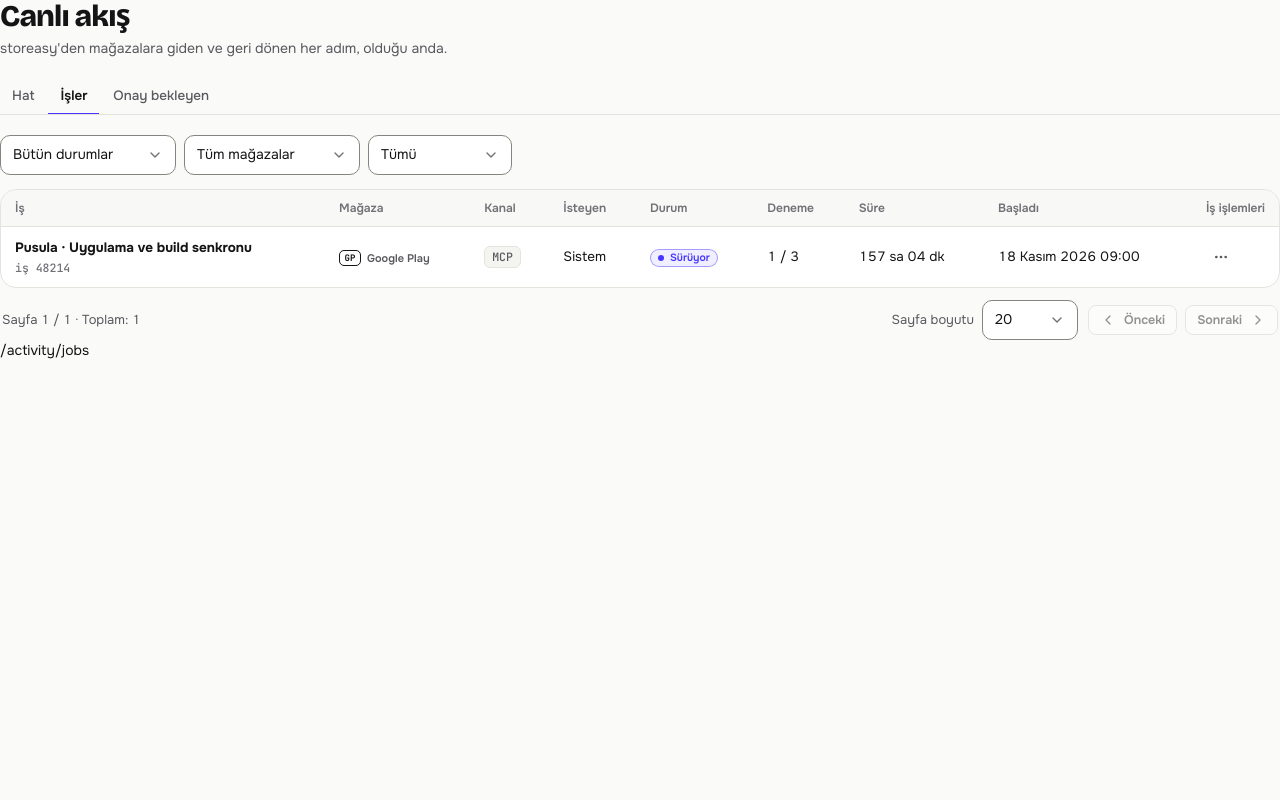
Test case: JobsPage › says a running job stops at its next step
Click the button named "İş işlemleri" at (1221, 257), box 1206,242 -> 1236,272
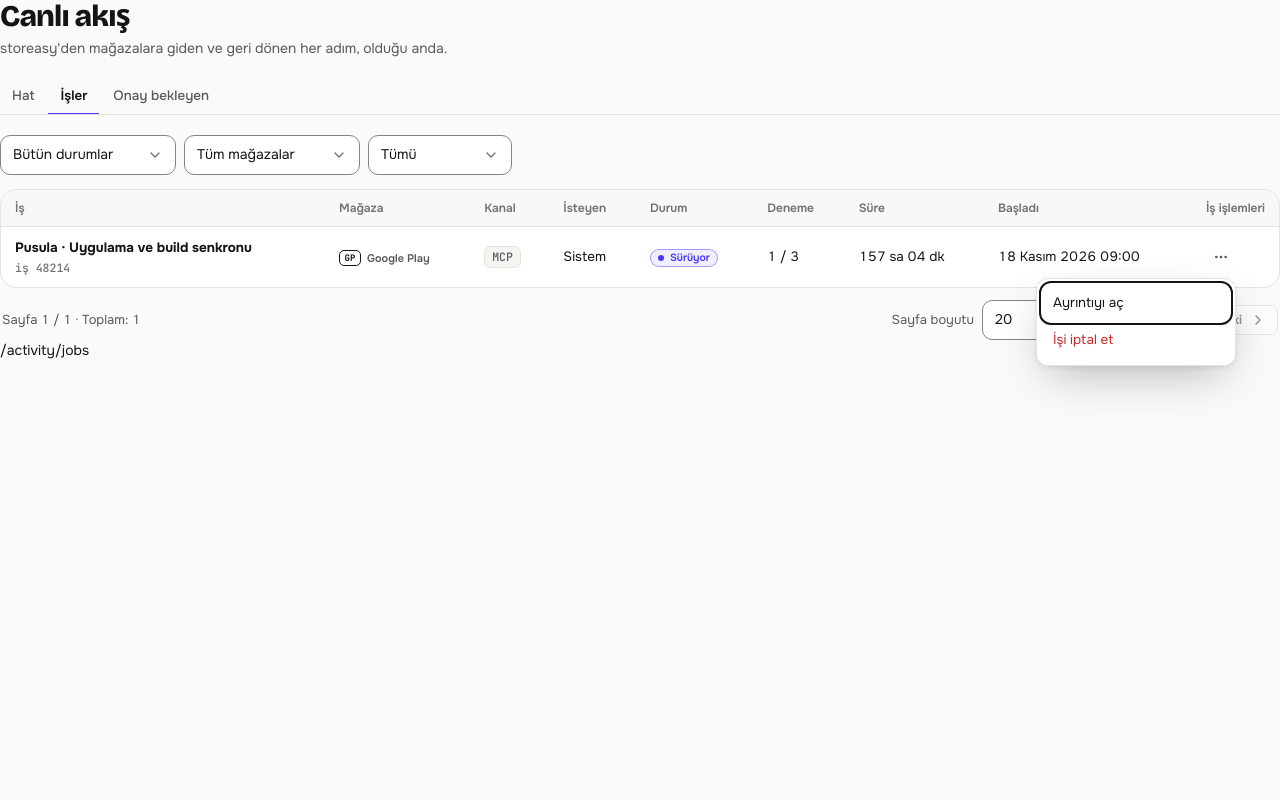
Click the menu item "İşi iptal et" at (1136, 340), box 1043,322 -> 1229,359
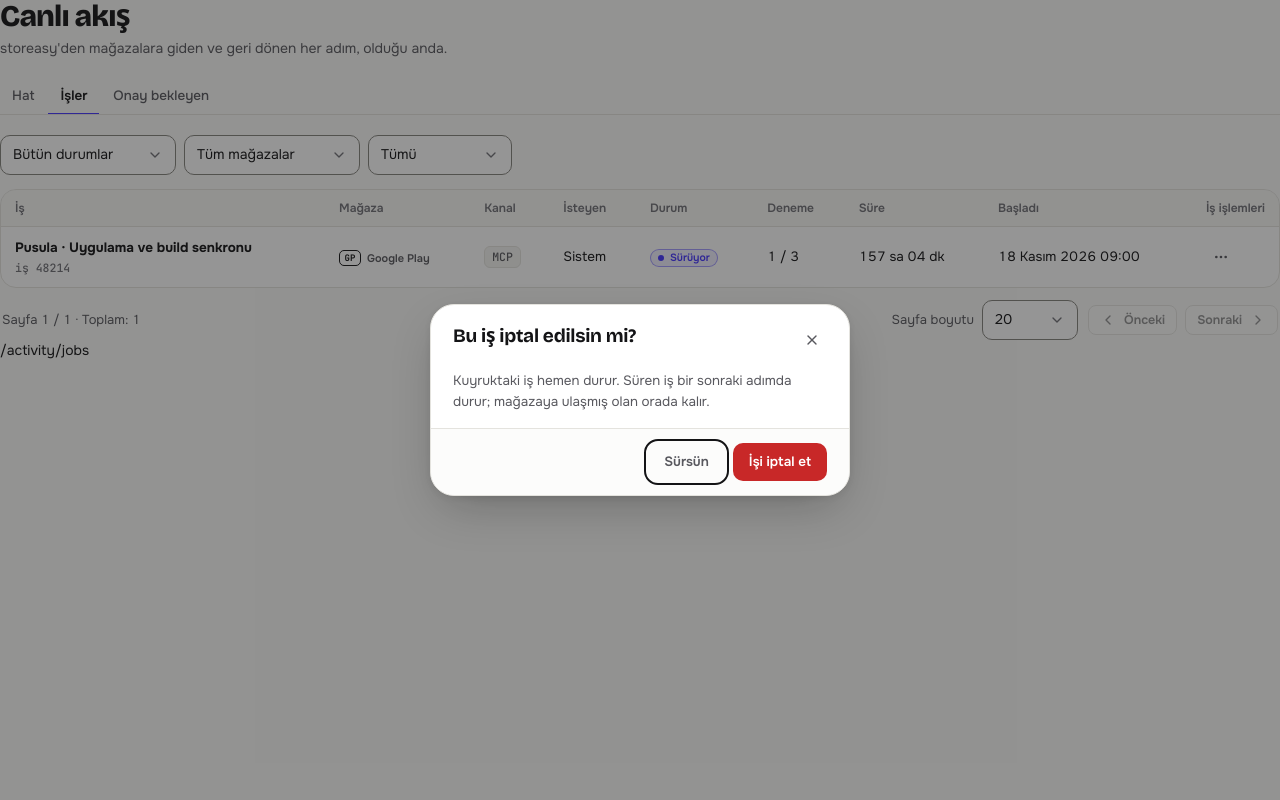
Click the button "İşi iptal et" at (780, 462), box 733,443 -> 827,481
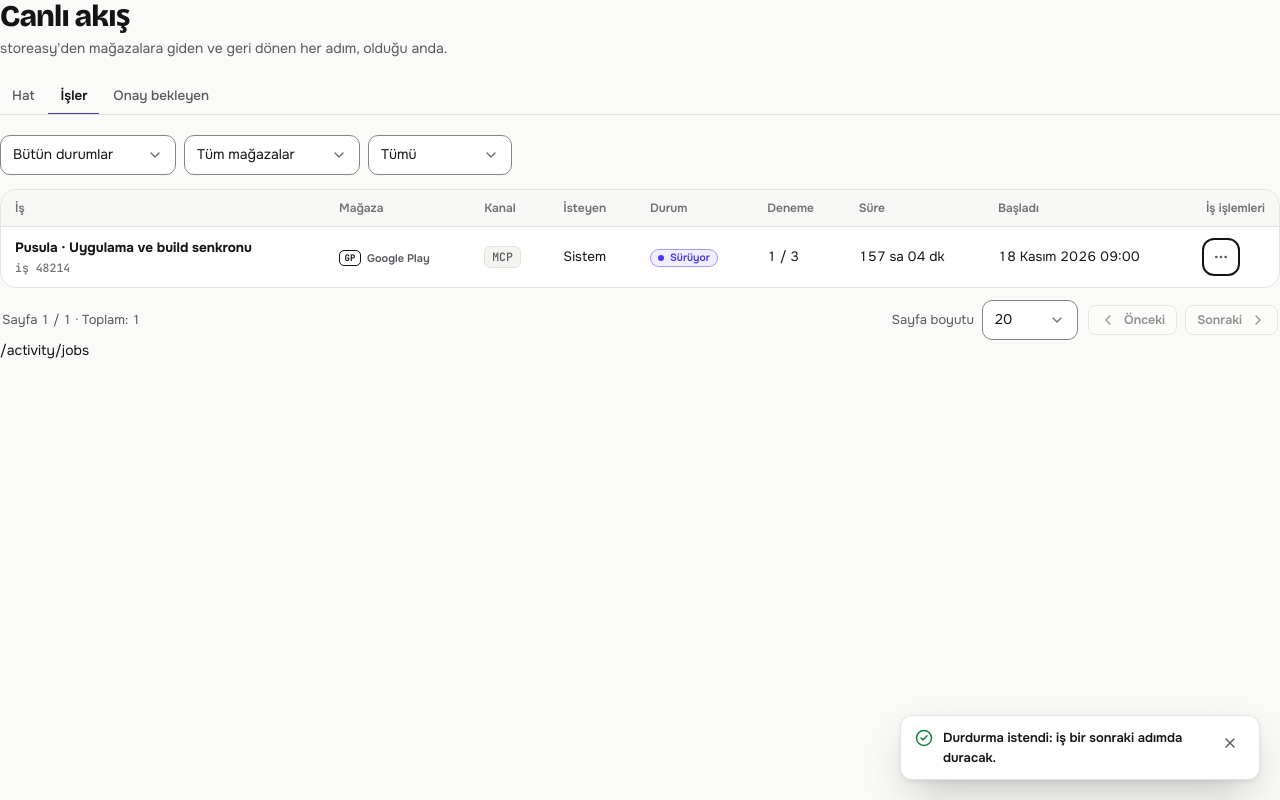
Check: the text "Durdurma istendi: iş bir sonraki adımda duracak." is shown, box 943,728 -> 1205,767
